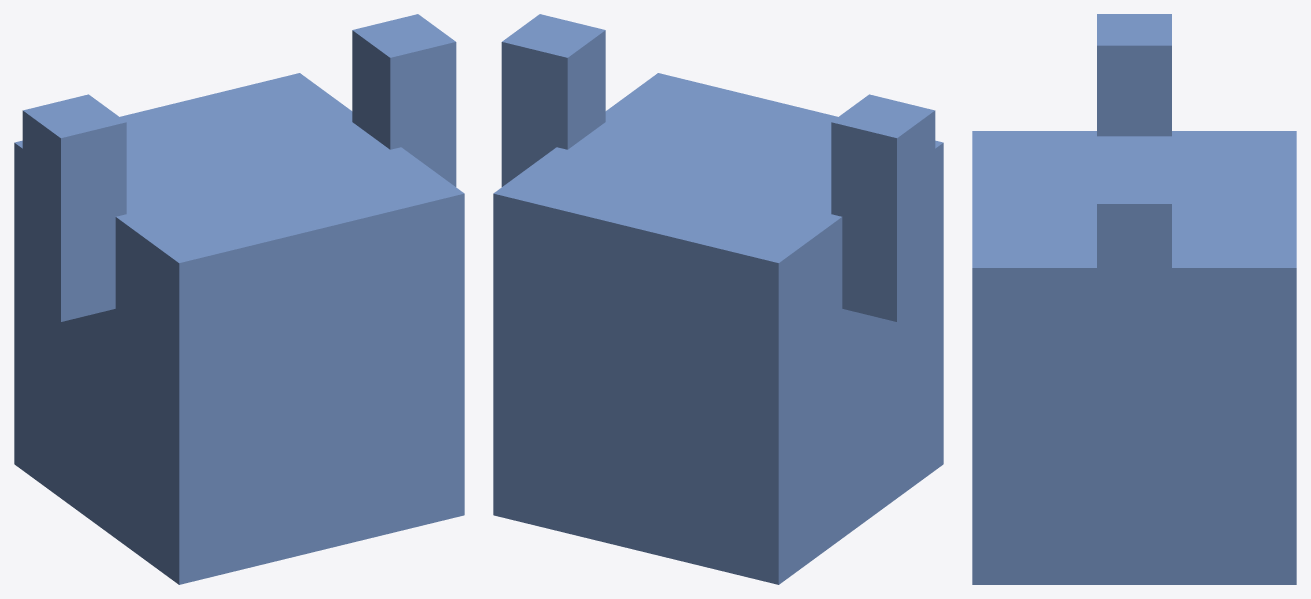
File: mage_helm.glb
The picture shows the model from 3 angles, left to right: view 1: azimuth 30°, elevation 25°; view 2: azimuth 150°, elevation 25°; view 3: azimuth 270°, elevation 25°; orthographic projection.
Visible parts, largest first — view 1: mage_helm; view 2: mage_helm; view 3: mage_helm.
Part boxes in pixels (<box>): mage_helm: <box>14,14,464,584</box>; mage_helm: <box>493,14,943,584</box>; mage_helm: <box>972,14,1296,584</box>.
Size of the model in its own units: 0.36 by 0.36 by 0.26.
